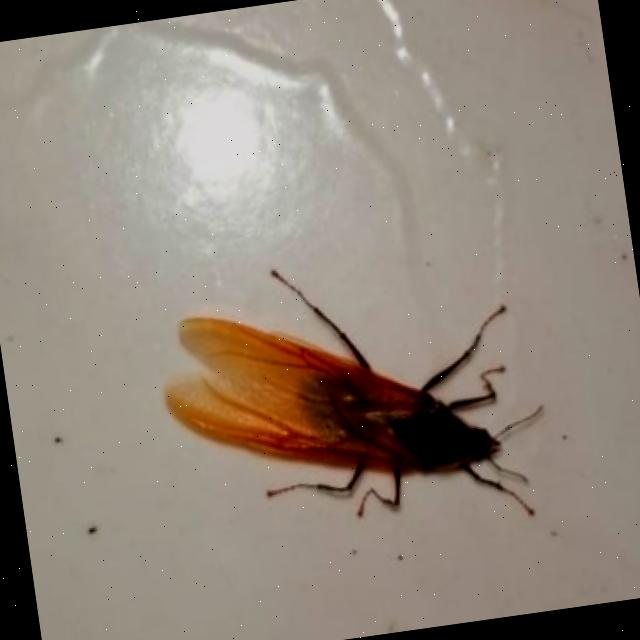Alive-Male-Alate: (148, 234, 559, 565)
